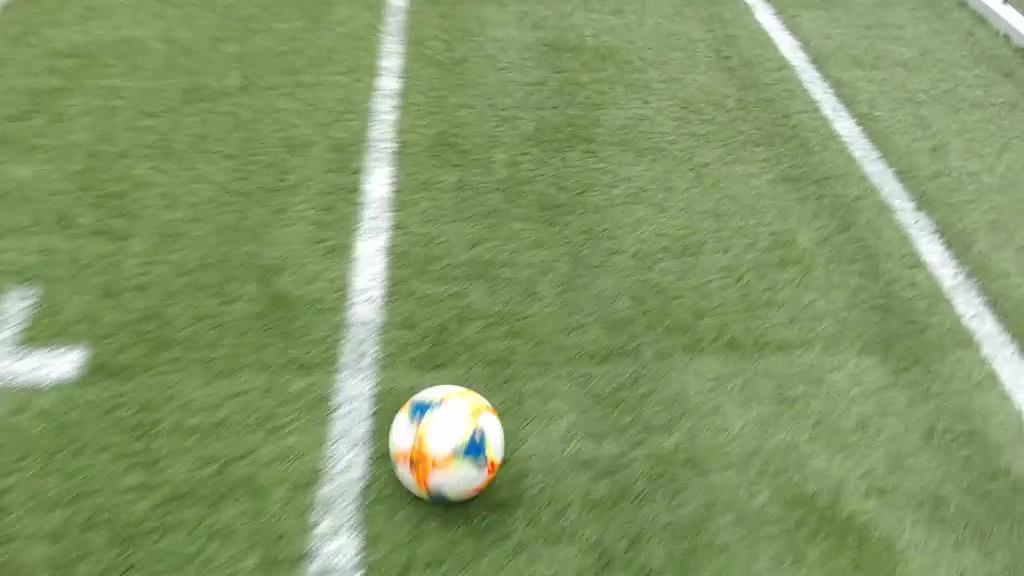ball: (388, 386, 502, 501)
